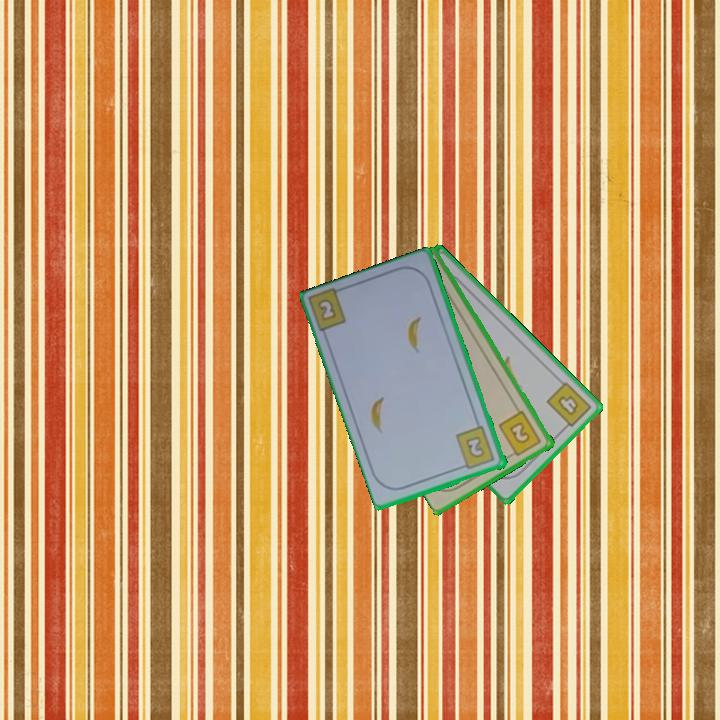2b: (495, 407, 544, 460), (452, 423, 498, 472), (314, 295, 340, 324)
4b: (543, 378, 594, 434)
